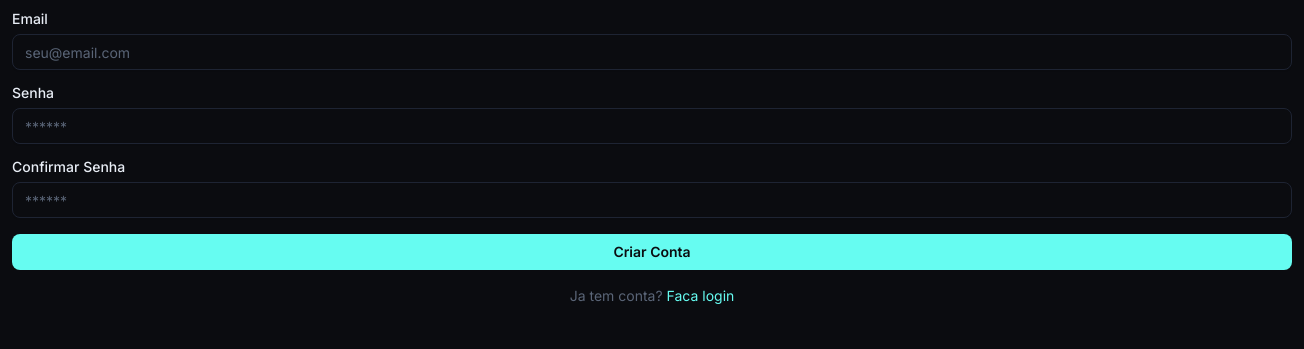
Test: RegisterForm › shows error for invalid email
Type "invalid-email" into the field labelled "Email" at (652, 52), box 12,34 -> 1292,70
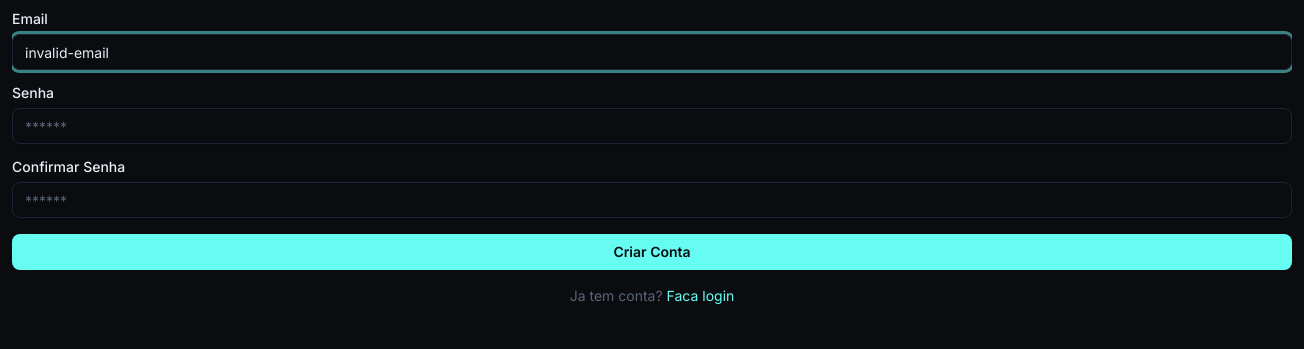
Type "password123" into the password field labelled "Senha" at (652, 126), box 12,108 -> 1292,144
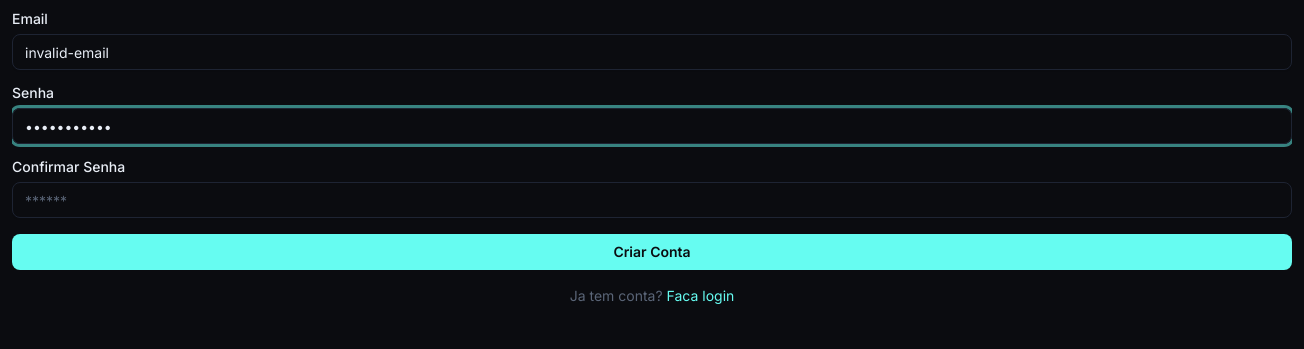
Type "password123" into the password field labelled "Confirmar Senha" at (652, 200), box 12,182 -> 1292,218
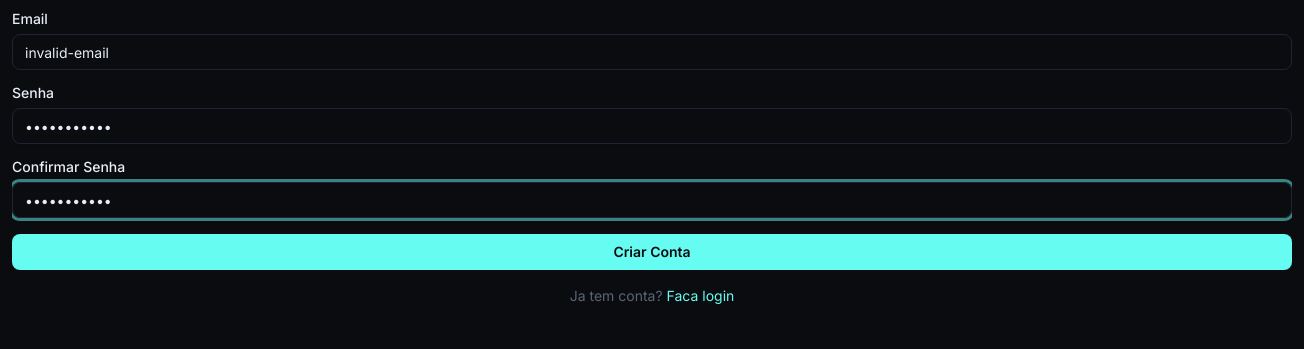
Click the button "Criar Conta" at (652, 252), box 12,234 -> 1292,270
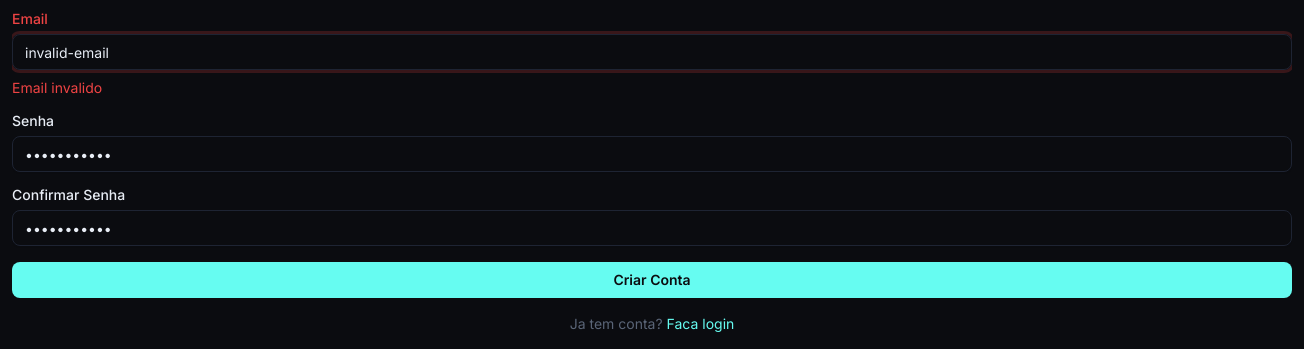
Expected: the text "Email invalido" is shown, 12,79 -> 102,96
